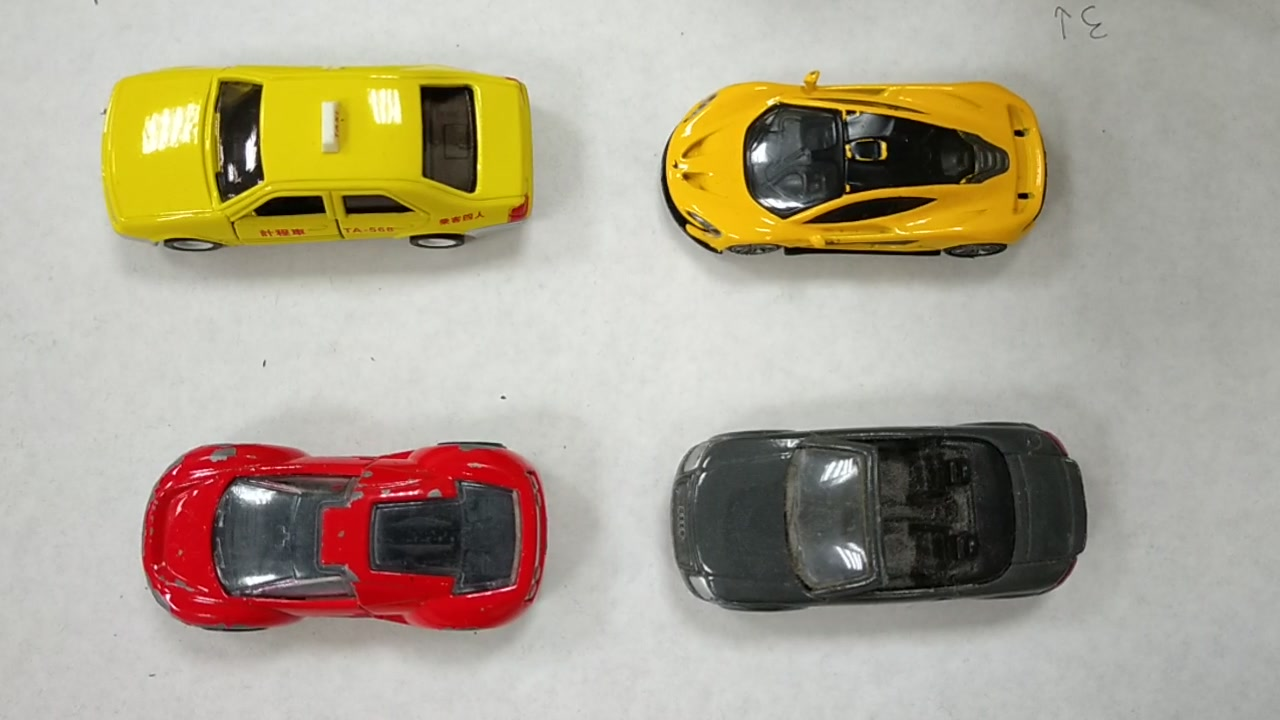car: (669, 430, 1093, 607), (104, 74, 538, 240), (143, 453, 559, 621), (658, 84, 1055, 253)
